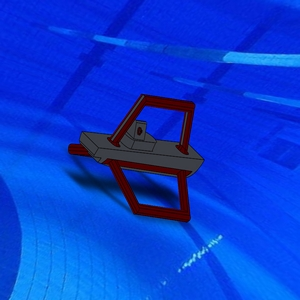submarine: (67, 91, 212, 227)
